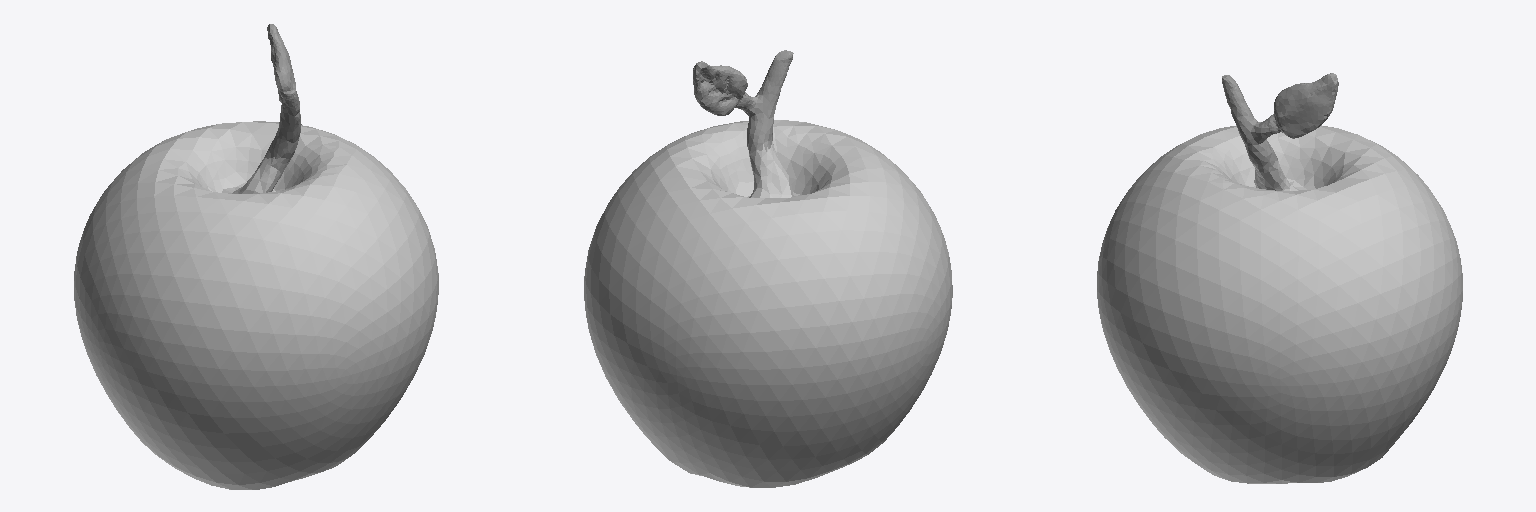
File: apple_seperated.obj
The picture shows the model from 3 angles: view 1: azimuth 30°, elevation 25°; view 2: azimuth 150°, elevation 25°; view 3: azimuth 270°, elevation 25°; orthographic projection.
Parts seen in each view (by area): view 1: body_Manzana.002, stem_Manzana.003; view 2: body_Manzana.002, stem_Manzana.003; view 3: body_Manzana.002, stem_Manzana.003.
Part boxes in pixels (left/top/right/bottom): body_Manzana.002: left=74, top=121, right=438, bottom=489; stem_Manzana.003: left=94, top=24, right=301, bottom=412; body_Manzana.002: left=584, top=120, right=952, bottom=487; stem_Manzana.003: left=609, top=50, right=922, bottom=416; body_Manzana.002: left=1097, top=125, right=1462, bottom=483; stem_Manzana.003: left=1222, top=73, right=1457, bottom=349.
Size of the model in its own units: 8.24 by 10.03 by 8.22.